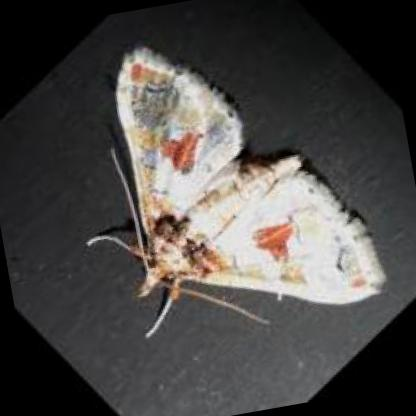leucinodes: (113, 52, 388, 309)
